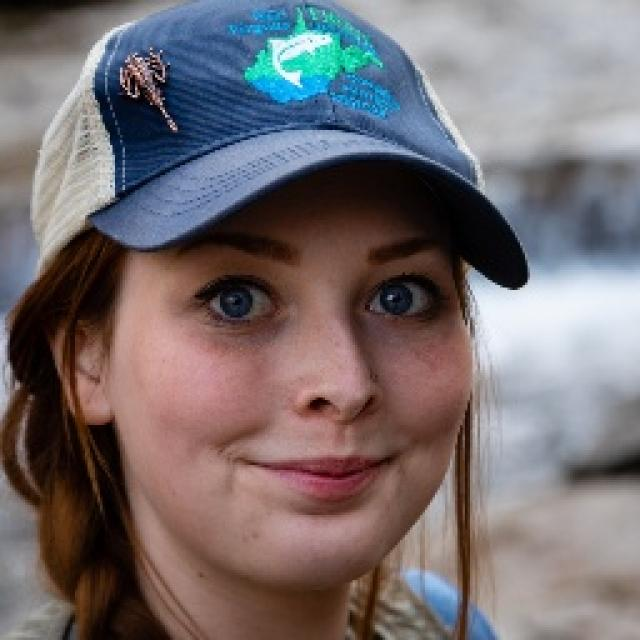earlobe: (73, 376, 113, 427)
eye: (199, 277, 278, 324), (370, 275, 442, 321)
nose: (297, 404, 385, 450)
wholeear: (43, 318, 113, 427)
